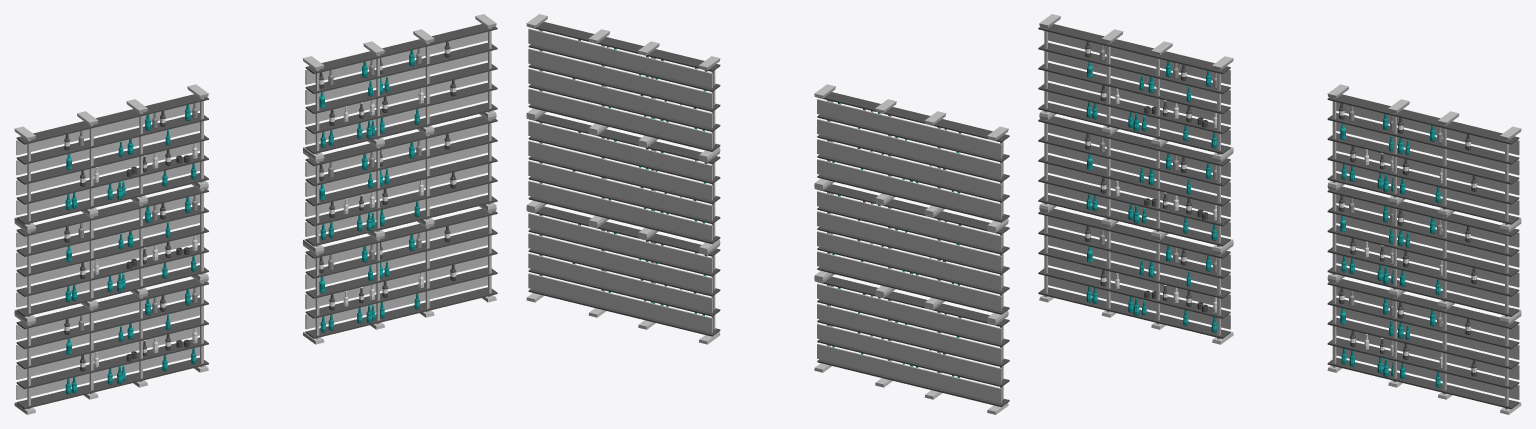
File: Bar_Back.fbx
3 views of the same model, side by side, from view 1: azimuth 30°, elevation 25°; view 2: azimuth 150°, elevation 25°; view 3: azimuth 330°, elevation 25° (orthographic).
Parts seen in each view (by area): view 1: Bar_Back; view 2: Bar_Back; view 3: Bar_Back.
Boxes of the visible parts, box(x1,y1,x2,y2) form: Bar_Back: box(14, 14, 497, 414); Bar_Back: box(526, 14, 1009, 414); Bar_Back: box(1038, 14, 1521, 414).
Bounding box in the file's own units: 948 × 531 × 44.44.
